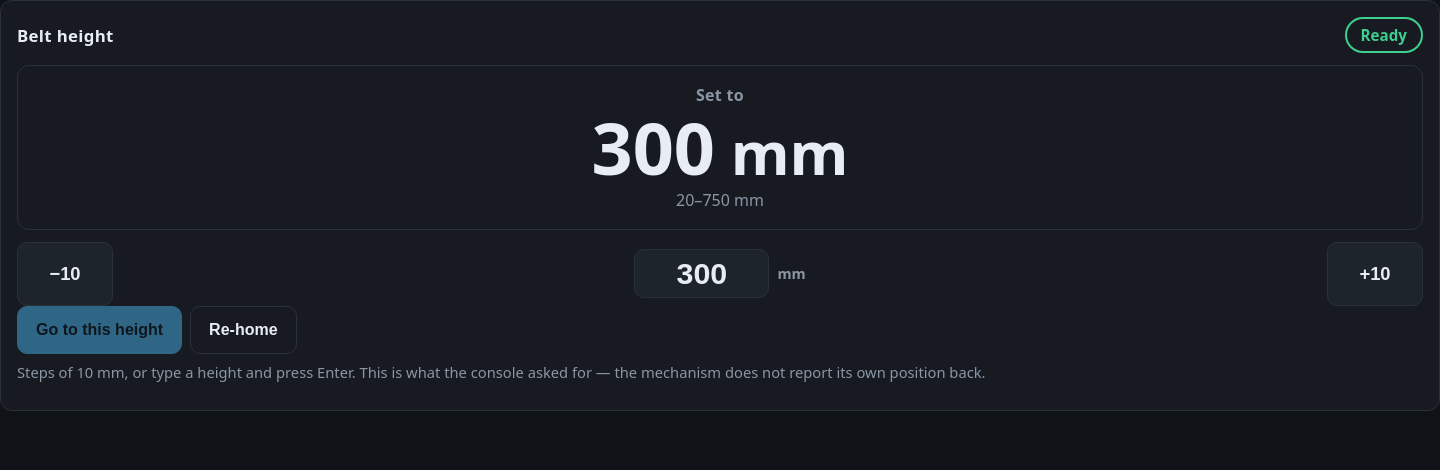
Test: surfaces a refusal from the backend
Click the button named "Raise" at coordinates (1375, 274), box x1=1327 y1=242 x2=1423 y2=306
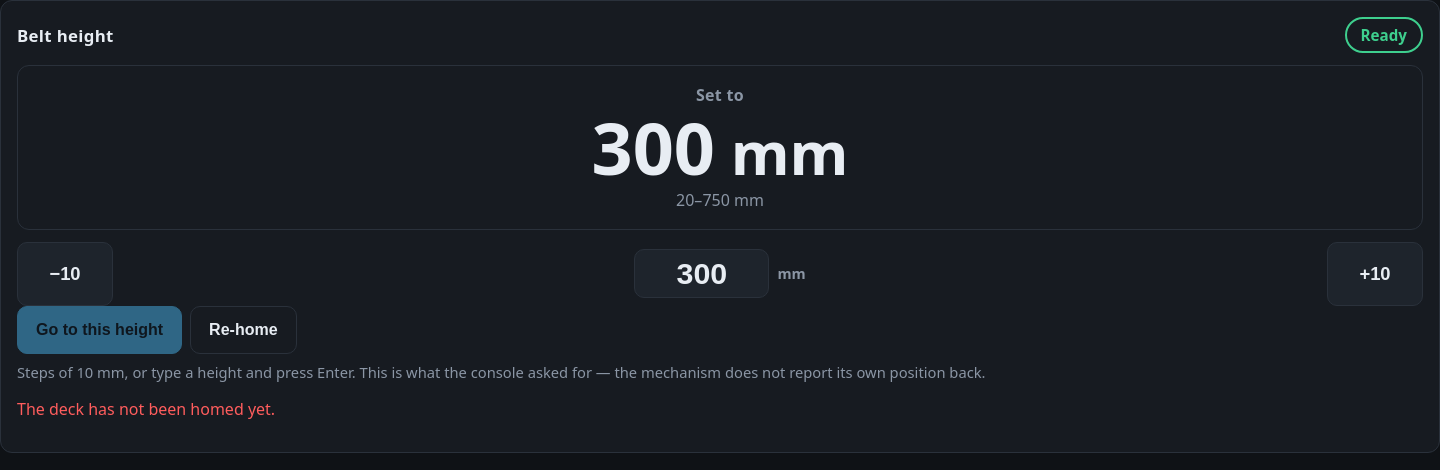
Check: the message shows "not been homed", box x1=17 y1=398 x2=275 y2=420
